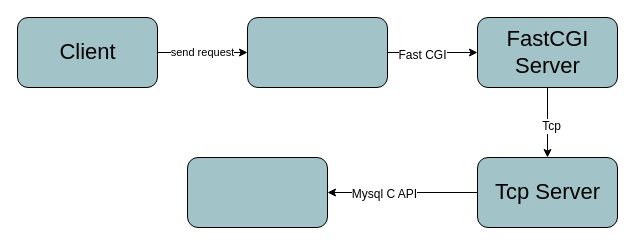
Some shapes in this 635 by 245 pixel diagram are drawn without their labels. Each missing label, with the box of its shape:
Mysql: (186, 156, 328, 228)
Nginx: (246, 16, 388, 88)
